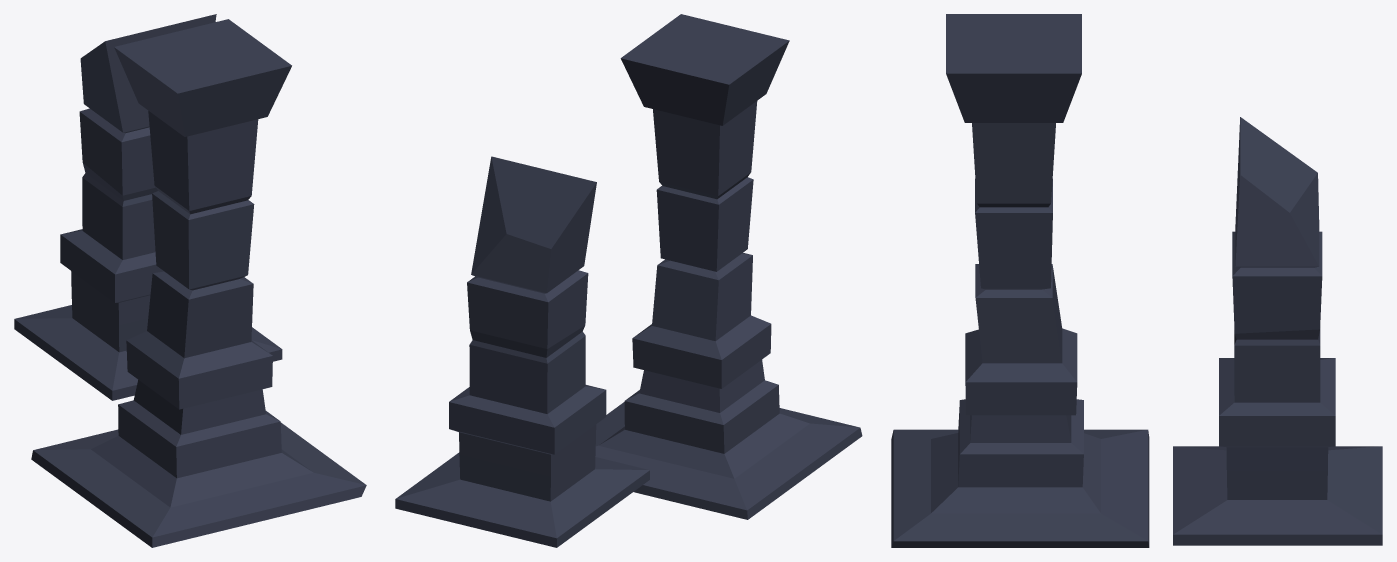
3 views of the same model, side by side, from view 1: azimuth 30°, elevation 25°; view 2: azimuth 150°, elevation 25°; view 3: azimuth 270°, elevation 25° (orthographic). The views are drawn at different scales.
Parts seen in each view (by area): view 1: Cube, Cube.001; view 2: Cube, Cube.001; view 3: Cube, Cube.001.
Part boxes in pixels (x1=…): Cube: x1=31, y1=19, x2=366, y2=547; Cube.001: x1=14, y1=14, x2=282, y2=400; Cube: x1=595, y1=14, x2=862, y2=519; Cube.001: x1=395, y1=156, x2=649, y2=547; Cube: x1=891, y1=14, x2=1149, y2=547; Cube.001: x1=1173, y1=117, x2=1382, y2=545.
Bounding box in the file's own units: 308 × 475 × 469.
